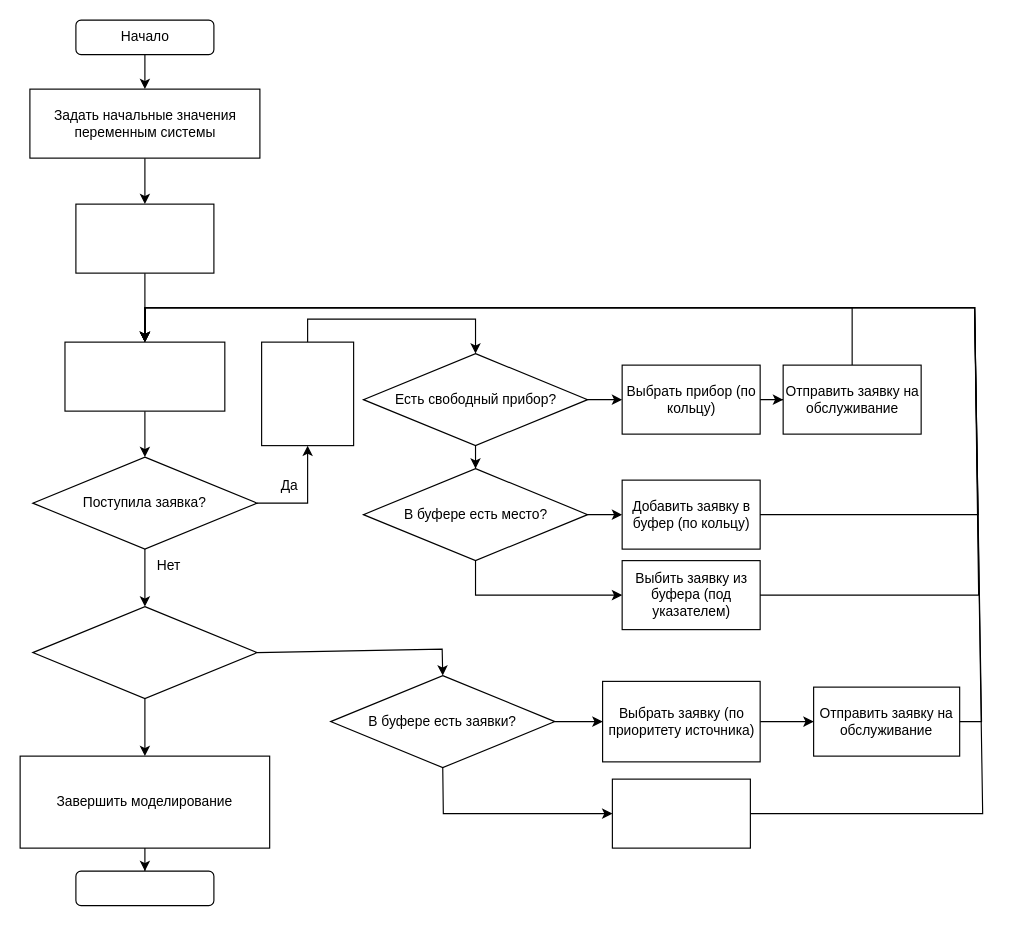
Some shapes in this 1012 by 926 pixel diagram are drawn without their labels. Each missing label, with the box of its shape:
Выбрать очередное особое событие из календаря: (64, 341, 225, 411)
Конец: (75, 870, 214, 906)
Прибор освободился?: (32, 605, 257, 699)
Прибор простаивает: (611, 778, 750, 848)
Сгенерировать заявки от источников: (75, 203, 214, 273)
Сгенерировать следующую заявку для этого источника: (260, 341, 354, 446)
